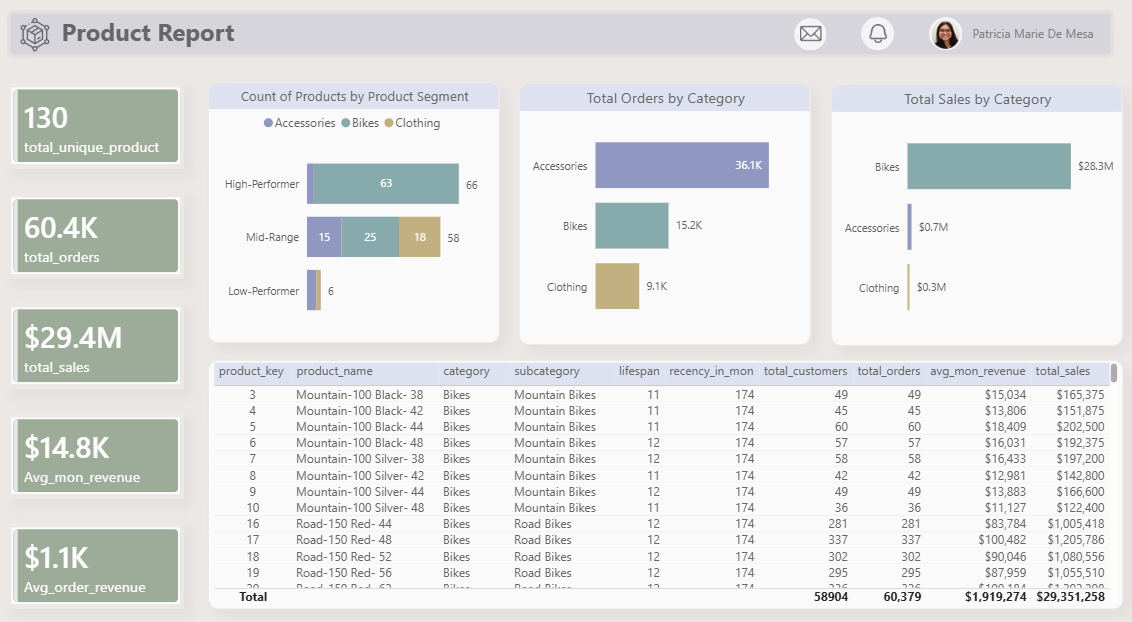

The page's visual inventory and layout, read from the dashboard file:
{"tool":"powerbi","page":{"name":"Product Report","canvas":[1280,720],"ordinal":1},"visuals":[{"type":"textbox","box":[16.8,24.2,1229.6,52.5],"z":0},{"type":"barChart","title":"Count of Products by Product Segment","fields":{"Category":["gold report_products.product_segment"],"Y":["Count(gold report_products.product_key)"],"Series":["gold report_products.category"]},"box":[240,104.4,324.4,290],"z":1000},{"type":"barChart","title":"Total Orders by Category","fields":{"Category":["gold report_products.category"],"Y":["Sum(gold report_products.total_orders)"]},"box":[586.1,105,324.5,290.9],"z":2000},{"type":"barChart","title":"Total Sales by Category","fields":{"Y":["Sum(gold report_products.total_sales)"],"Category":["gold report_products.category"]},"box":[932.2,106.7,324.4,291.1],"z":3000},{"type":"shape","box":[965.7,32.2,37,37],"z":4000},{"type":"image","box":[970.9,36.4,26.6,28.4],"z":5000},{"type":"shape","box":[891.1,32.8,36.4,36.4],"z":6000},{"type":"image","box":[897.3,35.5,23.9,29.3],"z":7000},{"type":"shape","box":[1041,31.9,37.2,37.2],"z":8000},{"type":"image","box":[1041.1,35.6,37,32.2],"z":9000},{"type":"textbox","box":[1084.4,36.7,162.2,31.1],"z":10000},{"type":"tableEx","fields":{"Values":["gold report_products.product_key","gold report_products.product_name","gold report_products.category","gold report_products.subcategory","gold report_products.lifespan","gold report_products.recency_in_months","Sum(gold report_products.total_customers)","Sum(gold report_products.total_orders)","Sum(gold report_products.avg_monthly_revenue)","Sum(gold report_products.total_sales)"]},"box":[240,413.3,1016.7,276.7],"z":11000},{"type":"cardVisual","fields":{"Data":["Count(gold report_products.product_key)"]},"box":[16.8,106,197,95.6],"z":12000},{"type":"cardVisual","fields":{"Data":["Sum(gold report_products.total_orders)"]},"box":[16.8,227.3,197,95.6],"z":13000},{"type":"cardVisual","fields":{"Data":["Sum(gold report_products.total_sales)"]},"box":[16.8,349.7,197,95.6],"z":14000},{"type":"cardVisual","fields":{"Data":["Avg(gold report_products.avg_monthly_revenue)"]},"box":[16.8,472,197,95.6],"z":15000},{"type":"cardVisual","fields":{"Data":["Avg(gold report_products.avg_order_revenue)"]},"box":[16.8,594.3,197,95.6],"z":16000},{"type":"image","box":[16.7,33.3,62.2,36.7],"z":17000}]}

Visuals, with their boxes in screenshot pixels (x1, y1, x2, y2), scaled from the page's 1280x720 canvas onto the 1132x622 screenshot:
textbox: bbox(15, 21, 1102, 66)
"Count of Products by Product Segment" barChart: bbox(212, 90, 499, 341)
"Total Orders by Category" barChart: bbox(518, 91, 805, 342)
"Total Sales by Category" barChart: bbox(824, 92, 1111, 344)
shape: bbox(854, 28, 887, 60)
image: bbox(859, 31, 882, 56)
shape: bbox(788, 28, 820, 60)
image: bbox(794, 31, 815, 56)
shape: bbox(921, 28, 954, 60)
image: bbox(921, 31, 953, 59)
textbox: bbox(959, 32, 1102, 59)
tableEx - gold report_products.product_key x gold report_products.product_name: bbox(212, 357, 1111, 596)
cardVisual - Count(gold report_products.product_key): bbox(15, 92, 189, 174)
cardVisual - Sum(gold report_products.total_orders): bbox(15, 196, 189, 279)
cardVisual - Sum(gold report_products.total_sales): bbox(15, 302, 189, 385)
cardVisual - Avg(gold report_products.avg_monthly_revenue): bbox(15, 408, 189, 490)
cardVisual - Avg(gold report_products.avg_order_revenue): bbox(15, 513, 189, 596)
image: bbox(15, 29, 70, 60)
